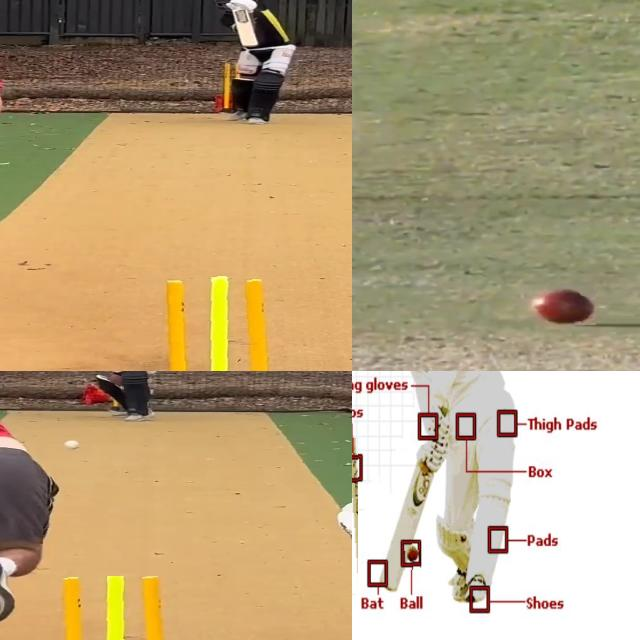Cricket ball: (528, 286, 596, 325), (403, 541, 420, 570), (63, 439, 80, 450)
Stumps: (141, 276, 284, 371), (41, 576, 178, 640)
